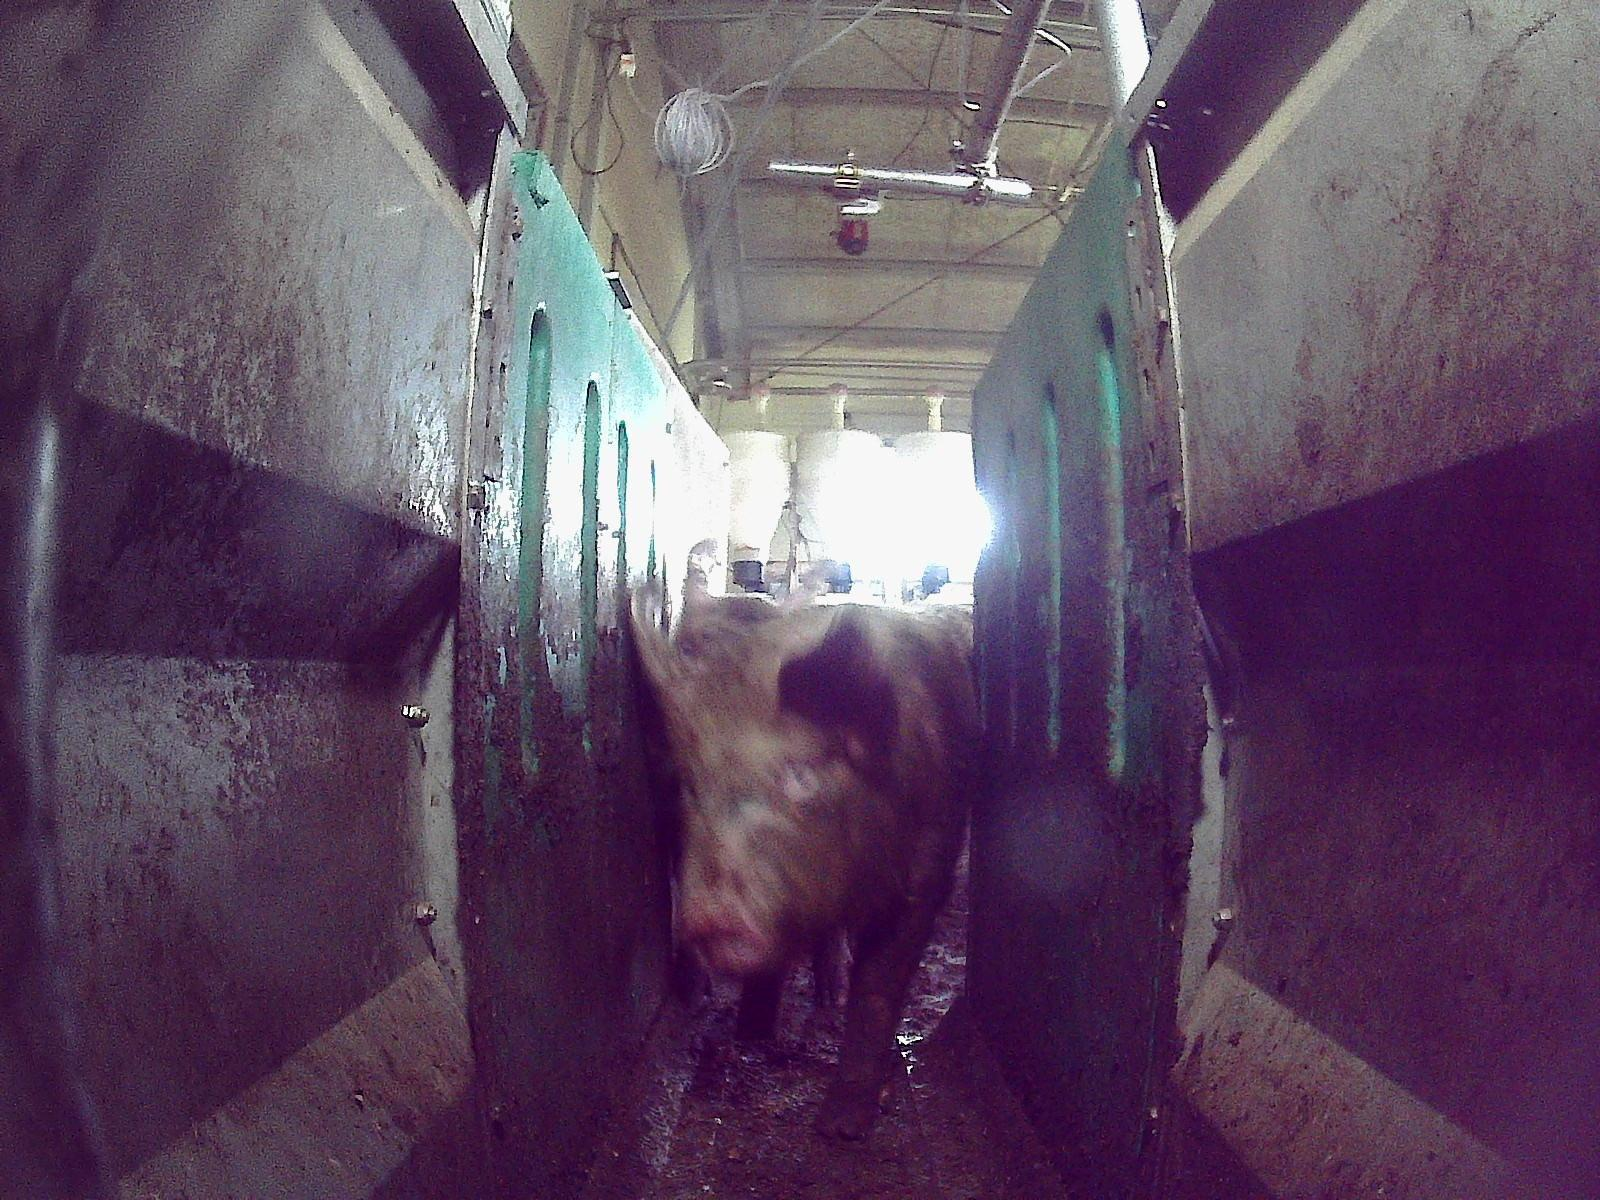Face: (652, 650, 901, 976)
